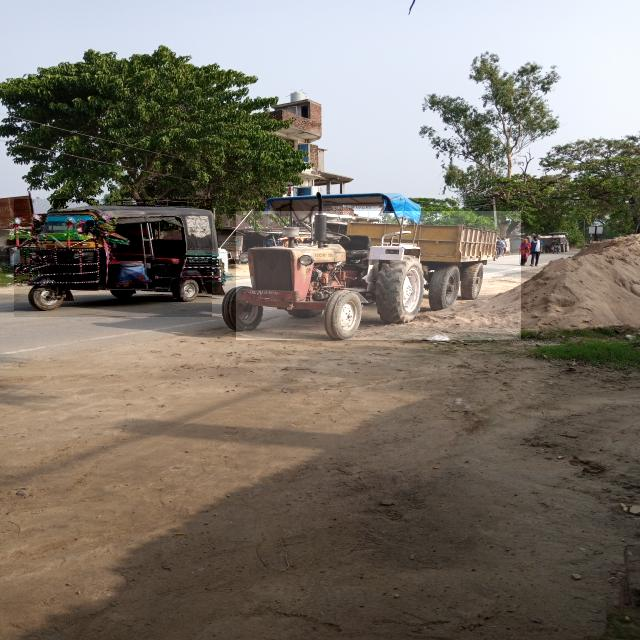Auto: (14, 200, 212, 318)
Tractot: (236, 211, 521, 340)
